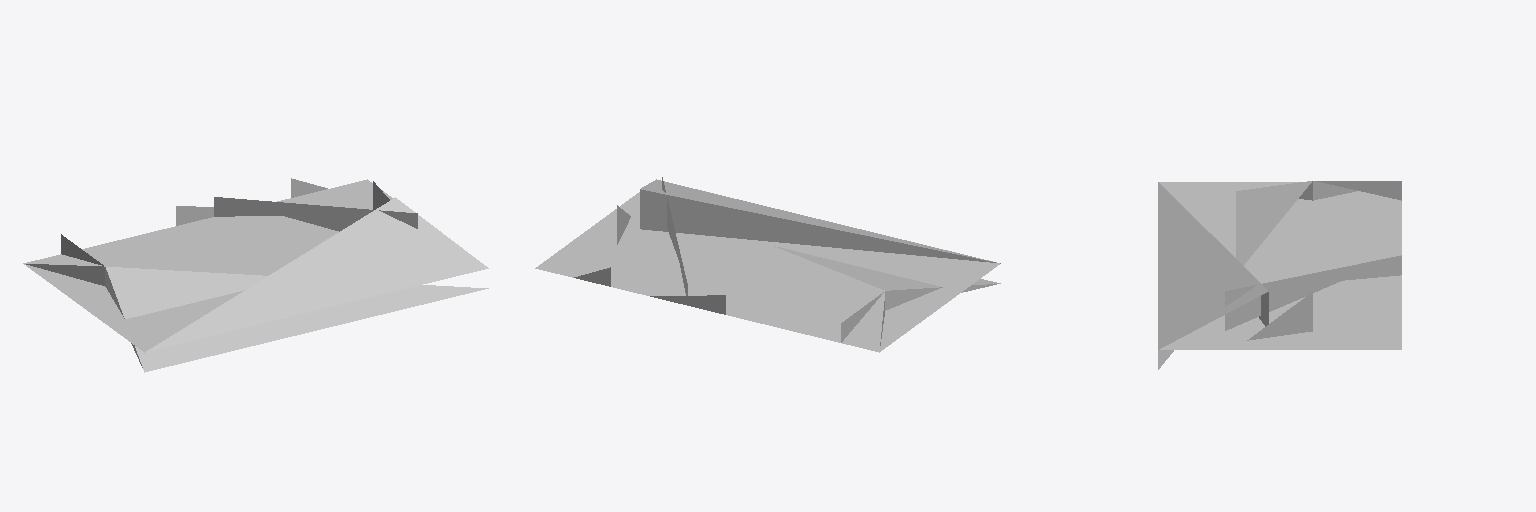
File: ExportedObj;Level1_60.obj
The picture shows the model from 3 angles: view 1: azimuth 30°, elevation 25°; view 2: azimuth 150°, elevation 25°; view 3: azimuth 270°, elevation 25°; orthographic projection.
Parts seen in each view (by area): view 1: Cube (7), cube (1), Cube, Cube (3), Sofa; view 2: Cube (7), Cube, cube (1), Cube (3), Sofa; view 3: Cube (7), Cube, cube (1).
Part boxes in pixels (x1,y1,x2,y2): Cube (7): (24, 179, 488, 352); cube (1): (26, 234, 488, 372); Cube: (23, 178, 391, 351); Cube (3): (176, 206, 213, 225); Sofa: (80, 299, 192, 326); Cube (7): (537, 177, 1000, 352); Cube: (535, 193, 999, 351); cube (1): (774, 246, 1000, 349); Cube (3): (650, 295, 725, 314); Sofa: (914, 256, 934, 311); Cube (7): (1158, 182, 1401, 349); Cube: (1161, 182, 1401, 349); cube (1): (1158, 181, 1401, 369).
Size of the model in its own units: 18 by 3 by 11.